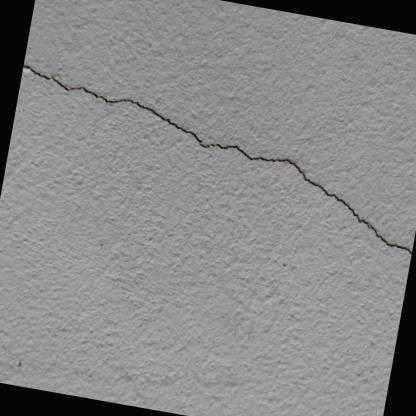crack: (22, 63, 411, 257)
